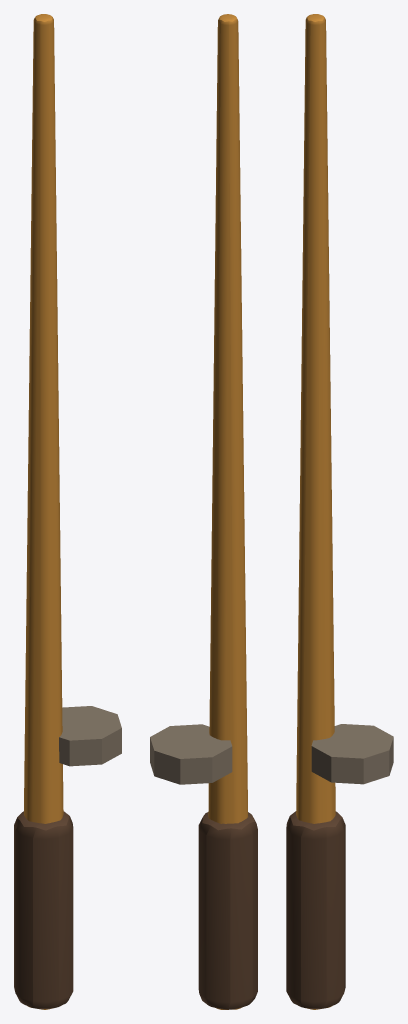
Rendered from equip_fishing_rod.glb.
3 views of the same model, side by side, from view 1: azimuth 30°, elevation 25°; view 2: azimuth 210°, elevation 25°; view 3: azimuth 330°, elevation 25° (orthographic).
Parts seen in each view (by area): view 1: rod_shaft, rod_grip, rod_reel; view 2: rod_shaft, rod_grip, rod_reel; view 3: rod_shaft, rod_grip, rod_reel.
Boxes of the visible parts, left/top/right/bottom form: rod_shaft: left=24, top=14, right=63, bottom=1009; rod_grip: left=14, top=811, right=73, bottom=1008; rod_reel: left=59, top=706, right=121, bottom=766; rod_shaft: left=208, top=14, right=247, bottom=1009; rod_grip: left=198, top=812, right=257, bottom=1009; rod_reel: left=150, top=724, right=232, bottom=784; rod_shaft: left=296, top=14, right=335, bottom=1009; rod_grip: left=286, top=811, right=345, bottom=1008; rod_reel: left=311, top=724, right=393, bottom=784.
Bounding box in the file's own units: 0.1211 × 1.15 × 0.09.
